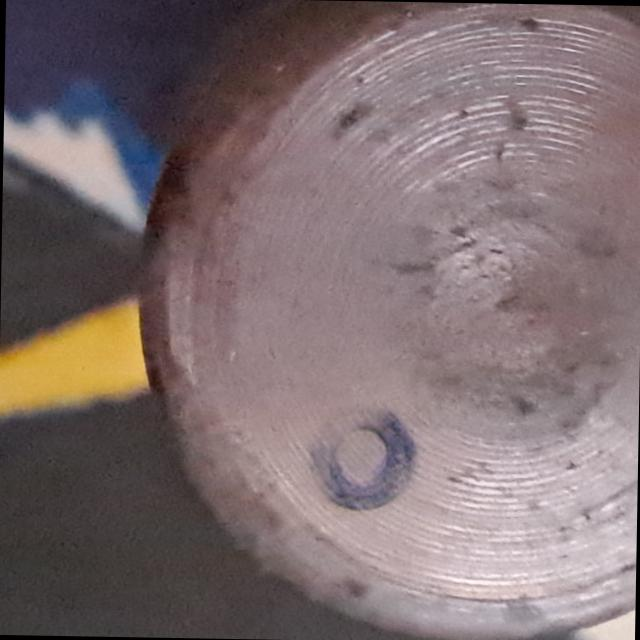defect: (306, 398, 420, 516)
planson: (145, 0, 640, 640)
